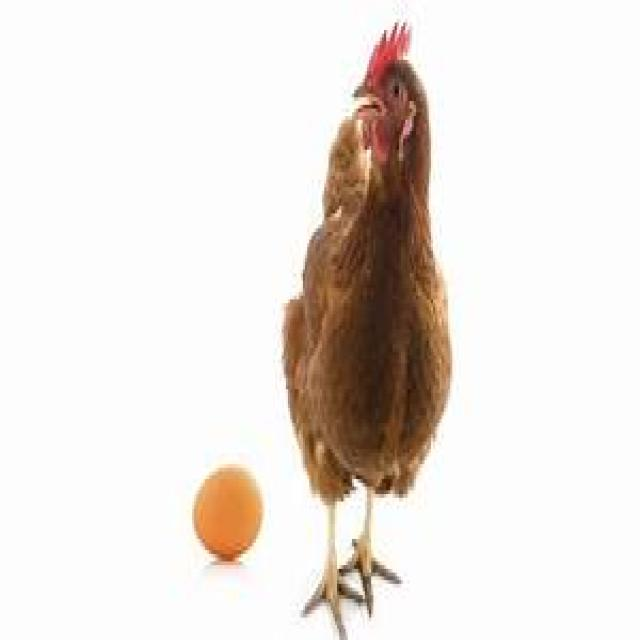chicken: (278, 15, 452, 636)
